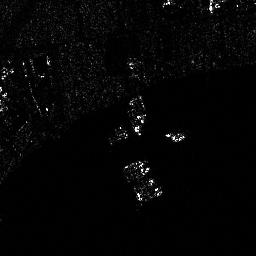ship: (136, 160, 162, 196)
